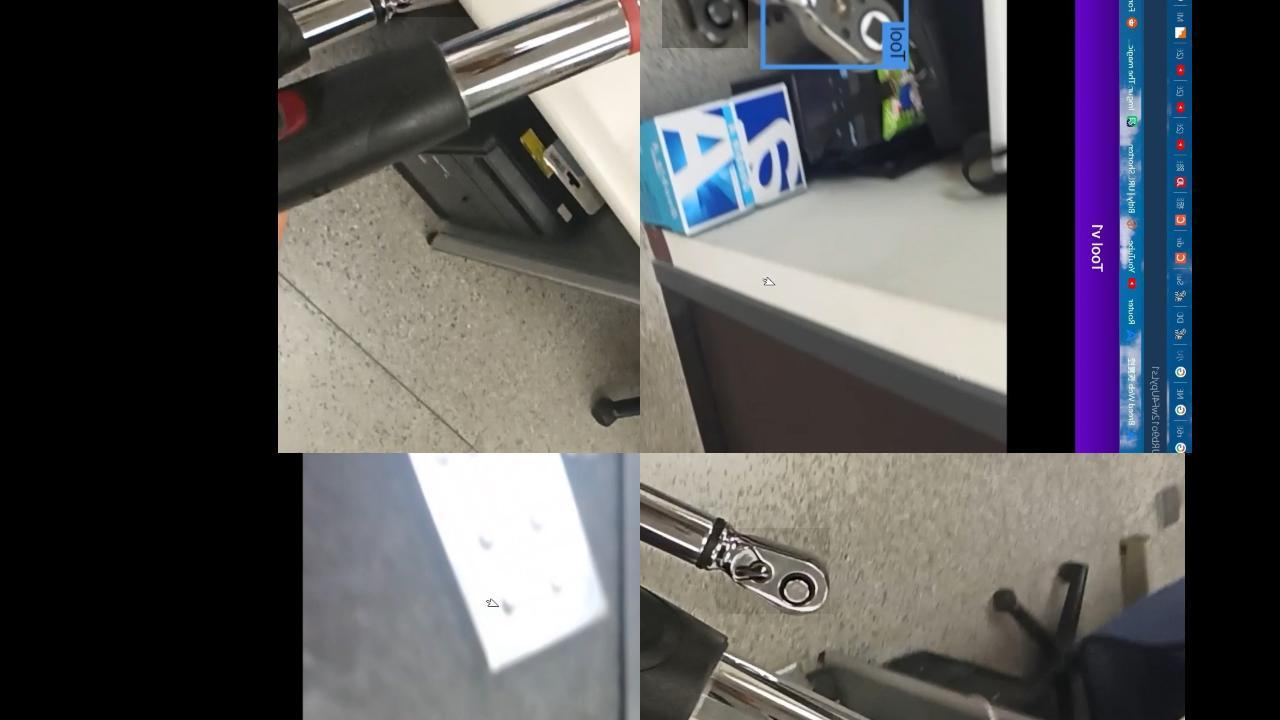Tool: (716, 527, 830, 613), (662, 0, 748, 47)
